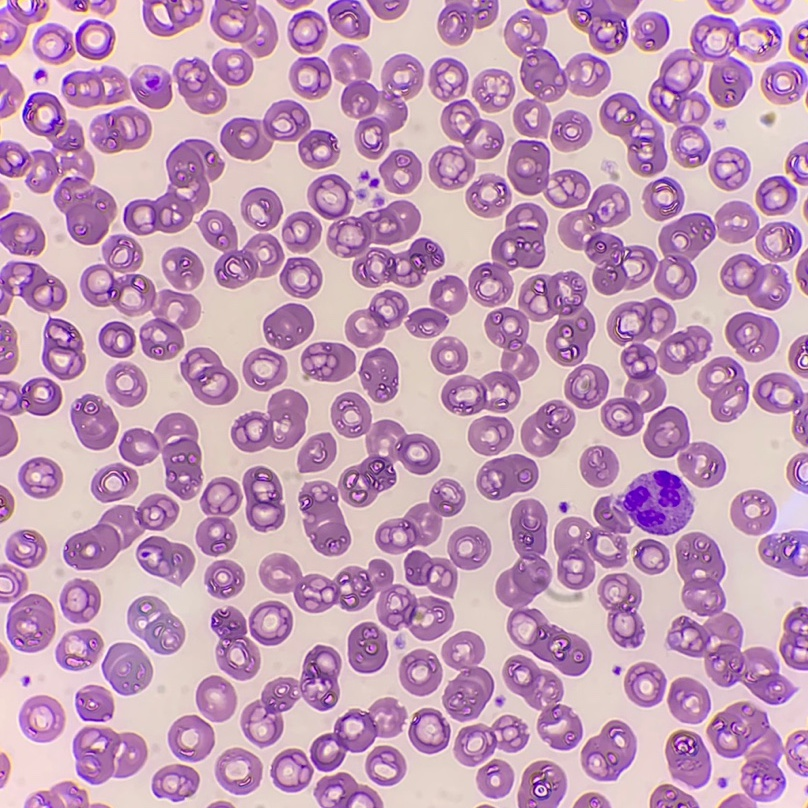RBC: (667, 532, 790, 703), (260, 554, 452, 640), (496, 500, 590, 674), (554, 471, 692, 588), (308, 175, 443, 286), (649, 19, 776, 123), (505, 15, 608, 136), (330, 45, 423, 158), (559, 185, 655, 294), (442, 308, 538, 414), (601, 299, 675, 435), (241, 646, 340, 746), (124, 139, 222, 234), (0, 93, 93, 192), (339, 420, 439, 506), (63, 494, 177, 569), (220, 101, 338, 168), (469, 203, 546, 305), (503, 656, 581, 749), (519, 272, 594, 365), (708, 702, 780, 798), (120, 413, 200, 498), (311, 698, 405, 770), (429, 100, 503, 188), (376, 479, 464, 553), (644, 407, 724, 486), (200, 210, 282, 287), (507, 140, 589, 207), (600, 93, 666, 175), (655, 213, 714, 298), (231, 390, 307, 451), (442, 632, 493, 720), (73, 727, 146, 783), (140, 290, 199, 359), (55, 178, 115, 244), (754, 373, 807, 445), (299, 481, 349, 555), (81, 265, 155, 314), (569, 0, 638, 52), (211, 0, 276, 55), (721, 255, 787, 309), (455, 715, 526, 765), (0, 262, 66, 314), (345, 291, 407, 346), (212, 608, 259, 679), (128, 596, 184, 653), (181, 348, 237, 404), (698, 357, 747, 421), (581, 721, 635, 779), (599, 573, 642, 645), (521, 401, 574, 455), (477, 454, 537, 499), (7, 594, 54, 651), (91, 107, 150, 152), (175, 60, 225, 113), (137, 536, 194, 582), (438, 0, 497, 44), (243, 467, 284, 530), (103, 643, 152, 694), (71, 395, 117, 449), (43, 319, 84, 379), (726, 313, 777, 361), (659, 326, 710, 373), (64, 69, 128, 106), (666, 731, 709, 785), (315, 773, 382, 807), (405, 551, 456, 595), (518, 761, 565, 807), (264, 304, 313, 348), (759, 531, 807, 575), (301, 342, 355, 381), (143, 0, 202, 35), (216, 748, 261, 793), (168, 715, 214, 759), (20, 696, 64, 741), (360, 348, 397, 401), (348, 622, 387, 672), (731, 490, 774, 534), (249, 601, 292, 644), (466, 174, 510, 216), (565, 364, 607, 408), (56, 629, 102, 669), (12, 378, 61, 415), (0, 213, 44, 254), (400, 650, 441, 694), (668, 678, 709, 722), (196, 676, 236, 721), (448, 527, 490, 569), (380, 150, 421, 193), (243, 349, 286, 390), (409, 708, 449, 752), (331, 393, 370, 437), (91, 464, 137, 501), (716, 201, 757, 242), (106, 363, 146, 405), (60, 580, 100, 622), (272, 749, 312, 791), (625, 663, 664, 706), (468, 416, 512, 454), (473, 70, 513, 111), (241, 188, 281, 229), (280, 257, 321, 297), (756, 222, 798, 261), (152, 765, 198, 800), (290, 58, 330, 98), (162, 248, 202, 288), (644, 178, 683, 219), (21, 458, 61, 497), (288, 11, 326, 52), (671, 125, 708, 167), (551, 111, 590, 150), (366, 746, 405, 785), (762, 65, 802, 103), (580, 446, 618, 486), (282, 212, 320, 251), (196, 517, 235, 555), (205, 560, 244, 598), (430, 59, 467, 99), (709, 149, 746, 189), (0, 7, 30, 54), (298, 433, 335, 471), (7, 530, 45, 567), (103, 235, 142, 271), (201, 478, 240, 514), (329, 2, 369, 37), (756, 177, 793, 214), (76, 23, 114, 59), (212, 50, 252, 84), (35, 782, 88, 807), (131, 75, 171, 108), (430, 276, 466, 312), (477, 760, 513, 796), (76, 685, 113, 720), (35, 28, 73, 62), (99, 322, 135, 357), (431, 337, 466, 373), (0, 65, 23, 117), (407, 308, 446, 337), (635, 16, 668, 50), (635, 539, 668, 573), (780, 629, 807, 669), (650, 785, 697, 807), (0, 321, 17, 374), (369, 0, 407, 19), (0, 415, 16, 455), (787, 453, 807, 483), (789, 31, 807, 61), (721, 794, 755, 807), (796, 252, 807, 291), (789, 338, 806, 363), (62, 0, 89, 11), (789, 607, 807, 623), (0, 487, 13, 509), (790, 143, 807, 159), (13, 571, 27, 590), (767, 0, 787, 13), (97, 0, 115, 13), (791, 731, 807, 743), (0, 185, 8, 208), (0, 648, 7, 672), (575, 796, 590, 807), (0, 754, 9, 772), (789, 758, 800, 768), (212, 801, 230, 807), (5, 382, 16, 391), (528, 0, 541, 7), (35, 7, 44, 17), (763, 114, 773, 123), (714, 1, 722, 9), (559, 0, 567, 7), (294, 0, 307, 4), (733, 0, 742, 5), (600, 802, 608, 807), (0, 776, 4, 784), (24, 803, 32, 807)
